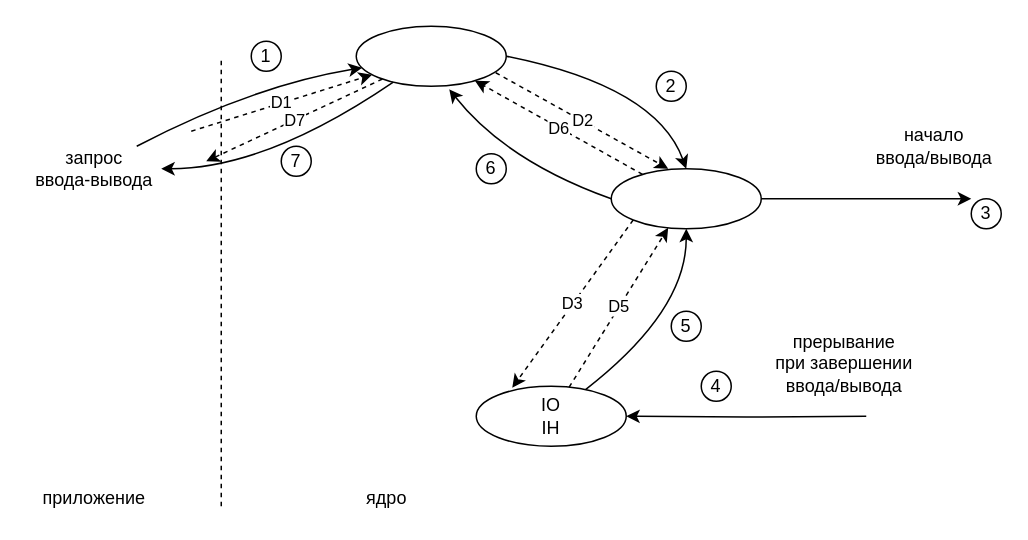
This 1028x540 diagram has some shape labels left out. Here are the shapes that lost their labels. From the top down, the centre of each, then its label:
the point at 430,55: SVC IH
the point at 685,198: драйвер
